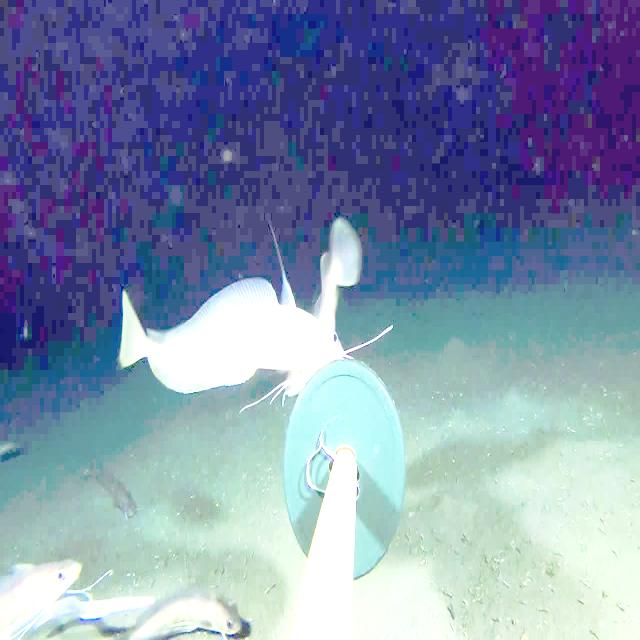eel: (42, 574, 156, 630)
fish: (114, 285, 360, 405), (310, 207, 370, 332), (5, 548, 84, 634), (233, 354, 322, 429), (127, 592, 251, 638), (76, 457, 146, 528)
pole: (282, 358, 403, 639)
